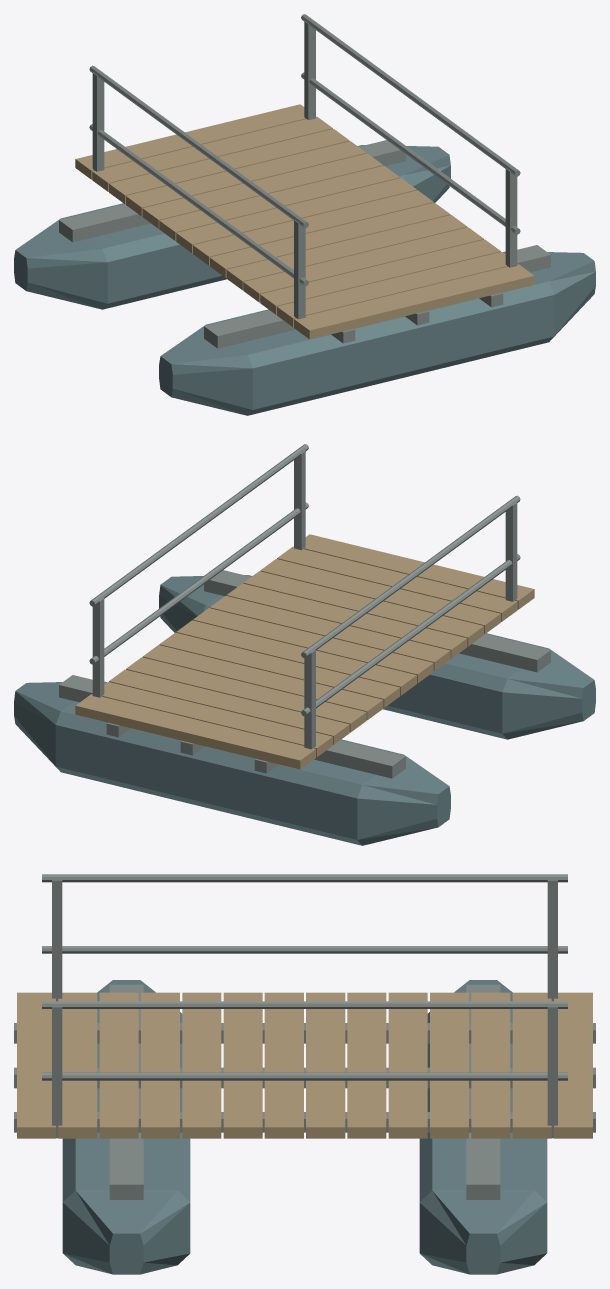
3 views of the same model, one above another, from view 1: azimuth 30°, elevation 25°; view 2: azimuth 150°, elevation 25°; view 3: azimuth 270°, elevation 25° (orthographic). The views are drawn at different scales.
Parts seen in each view (by area): view 1: FrontWholeClosedTaperedPontoon, RearWholeClosedTaperedPontoon, WholeDeckPlank00, WholeDeckPlank02, WholeDeckPlank03, WholeDeckPlank08, WholeDeckPlank09, WholeDeckPlank01, WholeDeckPlank11, WholeDeckPlank10, WholeDeckPlank07, WholeDeckPlank12 (+14 smaller); view 2: RearWholeClosedTaperedPontoon, FrontWholeClosedTaperedPontoon, WholeDeckPlank13, WholeDeckPlank11, WholeDeckPlank10, WholeDeckPlank04, WholeDeckPlank05, WholeDeckPlank12, WholeDeckPlank02, WholeDeckPlank03, WholeDeckPlank06, WholeDeckPlank01 (+14 smaller); view 3: FrontWholeClosedTaperedPontoon, RearWholeClosedTaperedPontoon, WholeDeckPlank02, WholeDeckPlank04, WholeDeckPlank05, WholeDeckPlank06, WholeDeckPlank07, WholeDeckPlank08, WholeDeckPlank09, WholeDeckPlank11, WholeDeckPlank03, WholeDeckPlank10 (+17 smaller).
Part boxes in pixels (<box>): FrontWholeClosedTaperedPontoon: <box>159,251,595,415</box>; RearWholeClosedTaperedPontoon: <box>14,145,450,309</box>; WholeDeckPlank00: <box>294,264,534,339</box>; WholeDeckPlank02: <box>260,239,500,314</box>; WholeDeckPlank03: <box>243,227,483,302</box>; WholeDeckPlank08: <box>159,166,399,240</box>; WholeDeckPlank09: <box>142,153,383,228</box>; WholeDeckPlank01: <box>277,252,517,326</box>; WholeDeckPlank11: <box>109,129,349,203</box>; WholeDeckPlank10: <box>126,141,366,216</box>; WholeDeckPlank07: <box>176,178,416,253</box>; WholeDeckPlank12: <box>92,116,332,191</box>; RearWholeClosedTaperedPontoon: <box>14,681,450,845</box>; FrontWholeClosedTaperedPontoon: <box>159,575,595,739</box>; WholeDeckPlank13: <box>75,694,315,769</box>; WholeDeckPlank11: <box>109,669,349,744</box>; WholeDeckPlank10: <box>126,657,366,732</box>; WholeDeckPlank04: <box>226,583,467,658</box>; WholeDeckPlank05: <box>210,596,450,670</box>; WholeDeckPlank12: <box>92,682,332,756</box>; WholeDeckPlank02: <box>260,559,500,633</box>; WholeDeckPlank03: <box>243,571,483,646</box>; WholeDeckPlank06: <box>193,608,433,683</box>; WholeDeckPlank01: <box>277,546,517,621</box>; FrontWholeClosedTaperedPontoon: <box>62,980,190,1274</box>; RearWholeClosedTaperedPontoon: <box>419,980,547,1274</box>; WholeDeckPlank02: <box>99,992,138,1138</box>; WholeDeckPlank04: <box>182,992,221,1138</box>; WholeDeckPlank05: <box>223,992,262,1138</box>; WholeDeckPlank06: <box>264,992,303,1138</box>; WholeDeckPlank07: <box>306,992,345,1138</box>; WholeDeckPlank08: <box>347,992,386,1138</box>; WholeDeckPlank09: <box>388,992,427,1138</box>; WholeDeckPlank11: <box>471,992,510,1138</box>; WholeDeckPlank03: <box>141,992,179,1138</box>; WholeDeckPlank10: <box>430,992,468,1138</box>.
Bounding box in the file's own units: 3.2 × 1.39 × 3.1.
